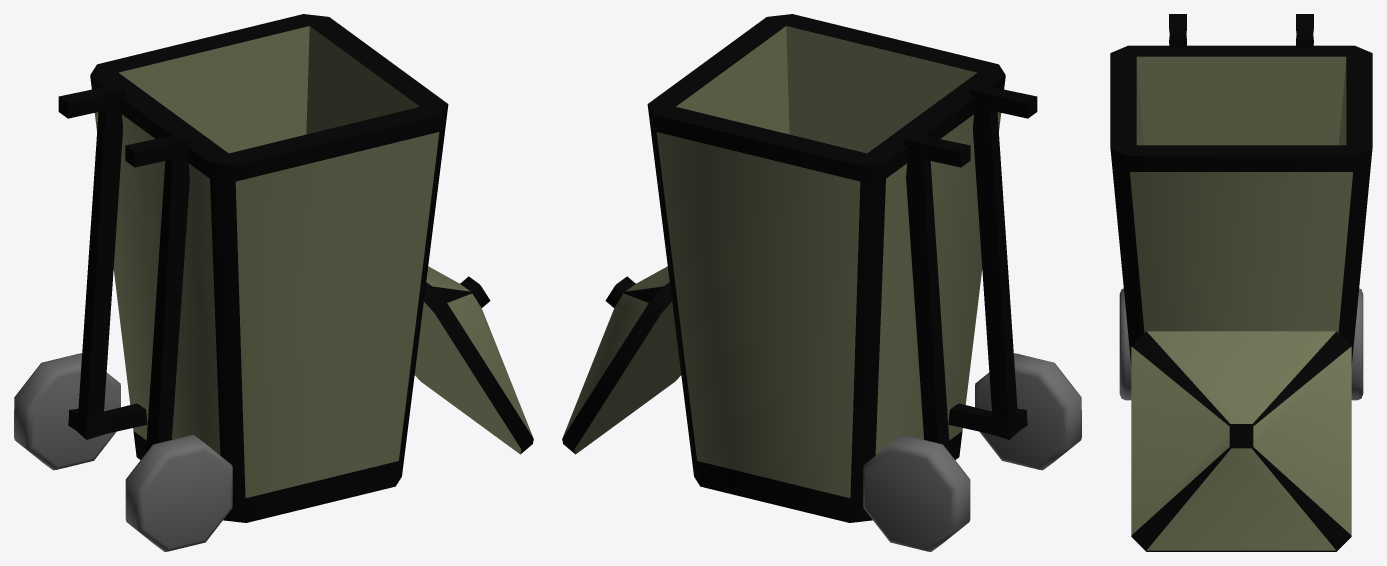
File: copkutusu.fbx
The picture shows the model from 3 angles, left to right: view 1: azimuth 30°, elevation 25°; view 2: azimuth 150°, elevation 25°; view 3: azimuth 270°, elevation 25°; orthographic projection. The views are drawn at different scales.
Parts seen in each view (by area): view 1: copkutusu, copkutusu2; view 2: copkutusu, copkutusu2; view 3: copkutusu, copkutusu2.
Part boxes in pixels (<box>): copkutusu: <box>14,14,448,551</box>; copkutusu2: <box>414,266,533,454</box>; copkutusu: <box>647,14,1081,551</box>; copkutusu2: <box>562,266,681,454</box>; copkutusu: <box>1110,14,1372,400</box>; copkutusu2: <box>1131,331,1351,551</box>.
Bounding box in the file's own units: 238 × 214 × 139.
